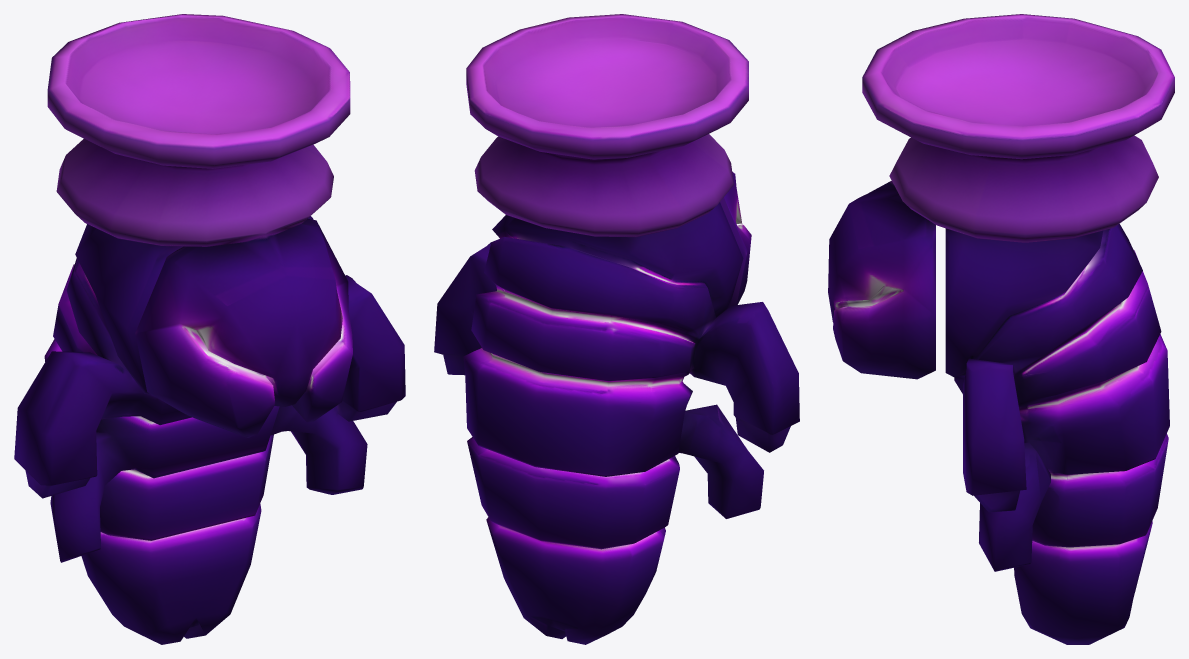
Rendered from monster_elite.glb.
3 views of the same model, side by side, from view 1: azimuth 30°, elevation 25°; view 2: azimuth 150°, elevation 25°; view 3: azimuth 270°, elevation 25° (orthographic). The views are drawn at different scales.
Visible parts, largest first — view 1: mesh_rep_0_ori_repair_quad; view 2: mesh_rep_0_ori_repair_quad; view 3: mesh_rep_0_ori_repair_quad.
Boxes of the visible parts, x1=… form: mesh_rep_0_ori_repair_quad: x1=14, y1=14, x2=405, y2=644; mesh_rep_0_ori_repair_quad: x1=434, y1=14, x2=799, y2=644; mesh_rep_0_ori_repair_quad: x1=828, y1=14, x2=1174, y2=644.
Size of the model in its own units: 69.37 by 106 by 58.77.
Materials: 1 (1 with a texture image).
